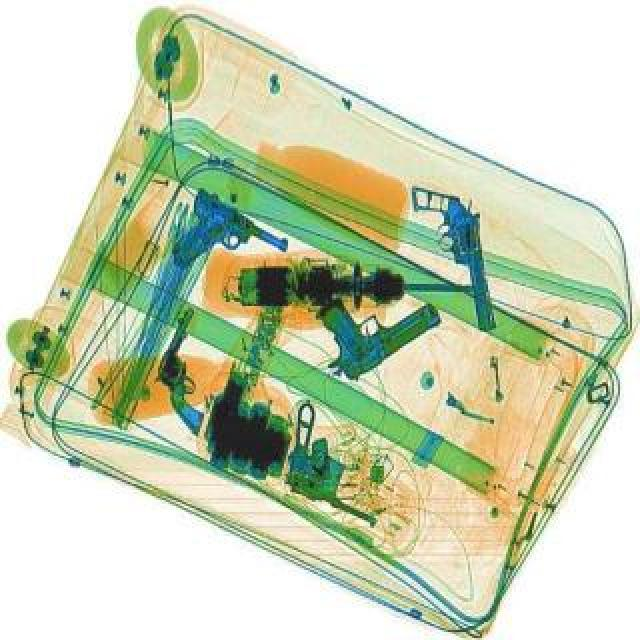gun: (262, 398, 416, 528), (154, 184, 294, 304), (132, 306, 248, 434), (408, 174, 498, 334), (318, 292, 446, 384)
